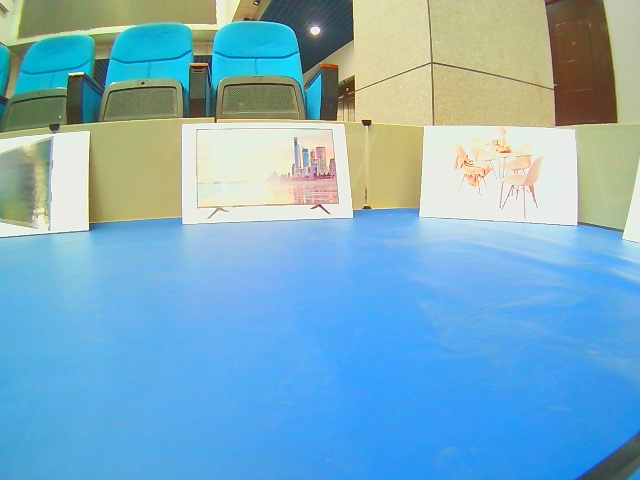table: (422, 125, 584, 227)
tv: (181, 123, 354, 226)
